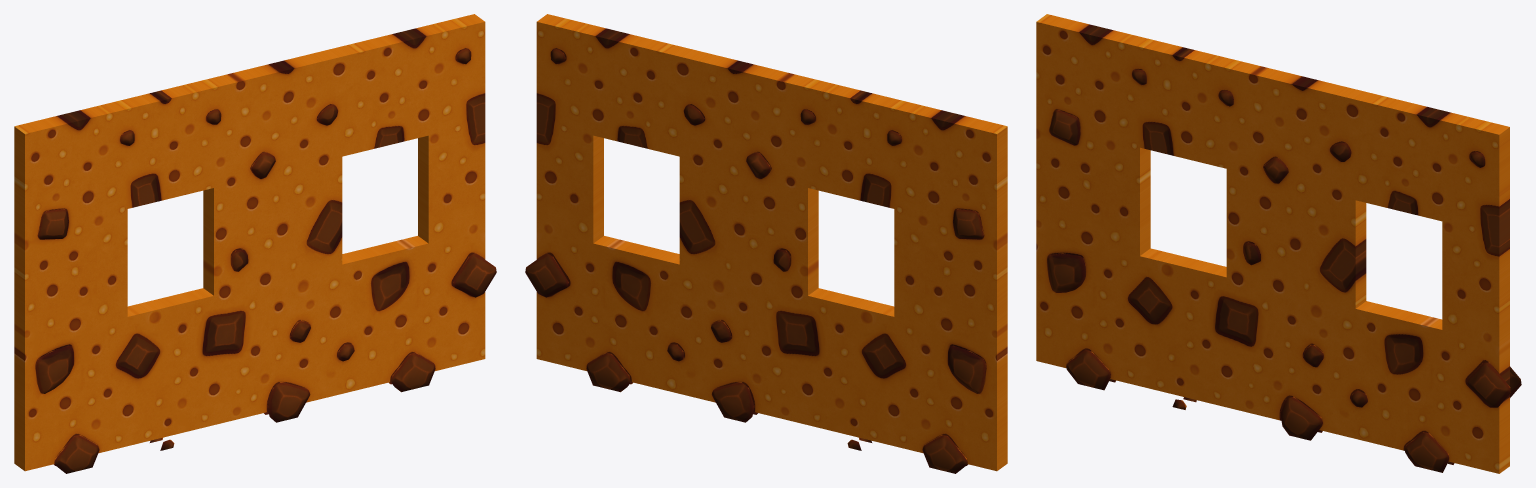
The model's file is parede_biscoito_lateral_duas_janelas_pacote.glb.
The picture shows the model from 3 angles, left to right: view 1: azimuth 30°, elevation 25°; view 2: azimuth 150°, elevation 25°; view 3: azimuth 330°, elevation 25°; orthographic projection.
Parts seen in each view (by area): view 1: colisao_malha; view 2: colisao_malha; view 3: colisao_malha.
Boxes of the visible parts, x1=… form: colisao_malha: x1=14, y1=14, x2=496, y2=473; colisao_malha: x1=525, y1=14, x2=1007, y2=473; colisao_malha: x1=1036, y1=14, x2=1521, y2=473.
Bounding box in the file's own units: 4.61 × 3.27 × 0.2747.
1 material, 1 textured.
